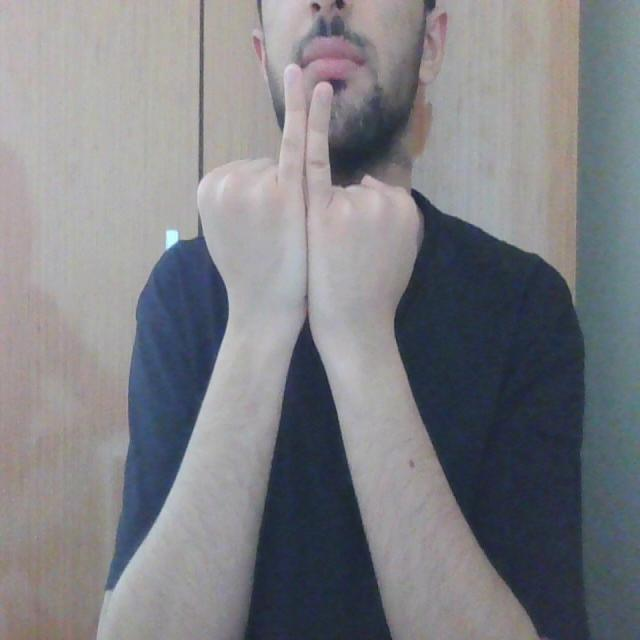Kardes: (193, 56, 425, 339)
